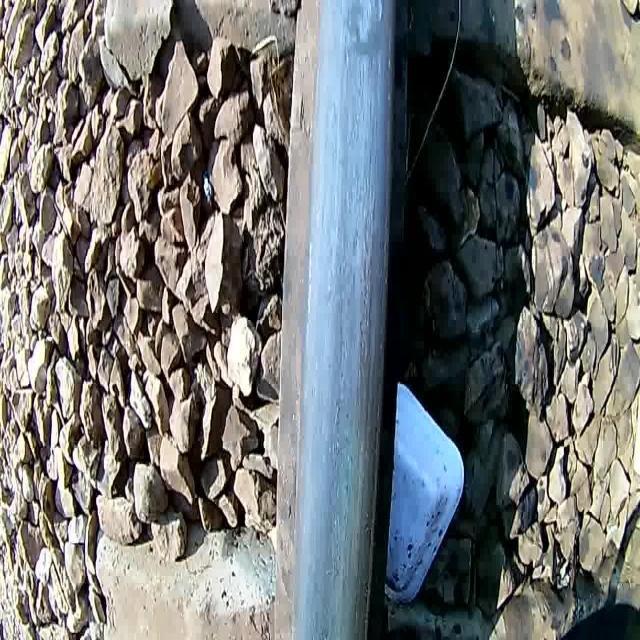Squats: (299, 0, 412, 89)
